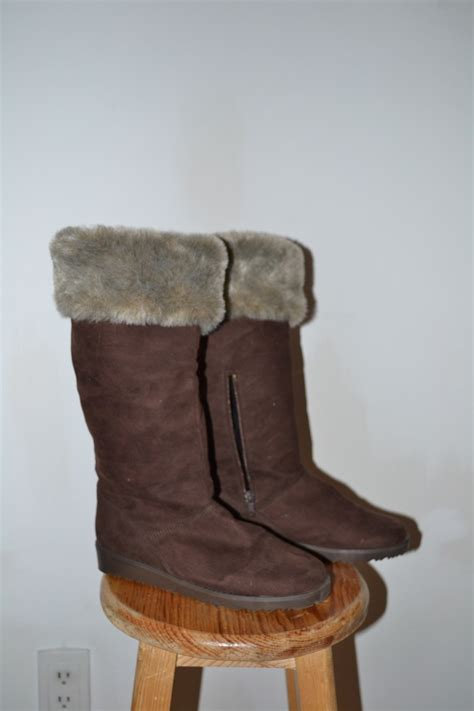gamuza: (69, 320, 422, 599)
